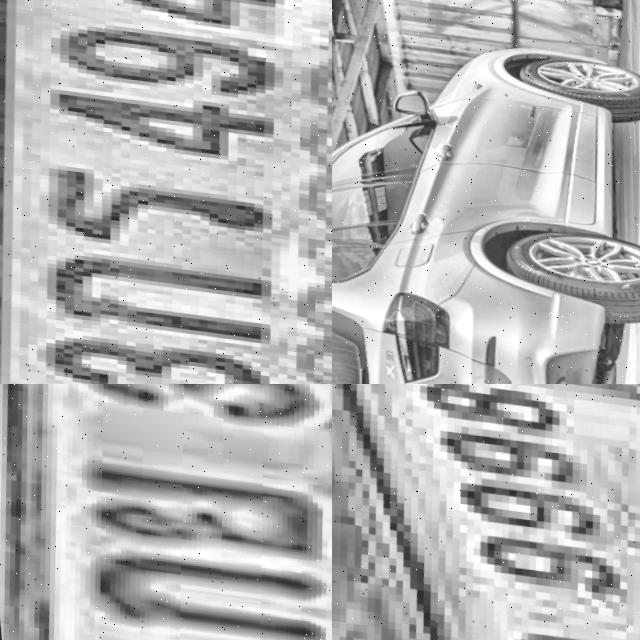license-plate: (0, 0, 332, 384), (0, 384, 332, 640), (332, 384, 640, 640)
